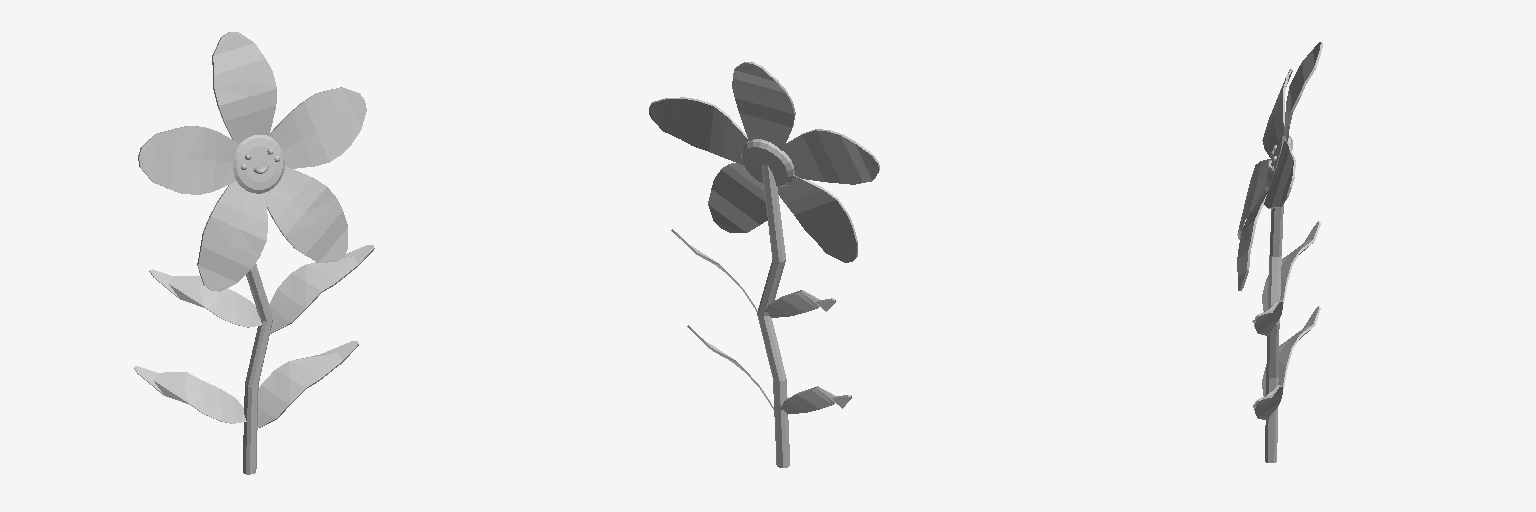
Rendered from adult plant grown.obj.
The picture shows the model from 3 angles: view 1: azimuth 30°, elevation 25°; view 2: azimuth 150°, elevation 25°; view 3: azimuth 270°, elevation 25°; orthographic projection.
Parts seen in each view (by area): view 1: polySurface17, polySurface1, pCube10 polySurface6, polySurface3 pCube10, pCube10 polySurface9, pCube10 polySurface11, pCube10 polySurface14, pCube11, pCube10 polySurface16; view 2: pCube11, pCube10 polySurface9, pCube10 polySurface14, polySurface3 pCube10, pCube10 polySurface6, pCube10 polySurface11, pCube10 polySurface16, polySurface17, polySurface1; view 3: pCube11, polySurface1, polySurface17, pCube10 polySurface14, polySurface3 pCube10, pCube10 polySurface11, pCube10 polySurface9, pCube10 polySurface6.
Boxes of the visible parts, box(x1,y1,x2,y2) form: polySurface17: box(134, 341, 358, 428); polySurface1: box(149, 245, 374, 333); pCube10 polySurface6: box(197, 181, 267, 291); polySurface3 pCube10: box(212, 32, 276, 143); pCube10 polySurface9: box(138, 126, 238, 194); pCube10 polySurface11: box(263, 166, 347, 262); pCube10 polySurface14: box(269, 87, 366, 168); pCube11: box(243, 263, 273, 474); pCube10 polySurface16: box(233, 135, 284, 193); pCube11: box(757, 164, 789, 467); pCube10 polySurface9: box(783, 129, 879, 184); pCube10 polySurface14: box(649, 97, 748, 164); polySurface3 pCube10: box(732, 62, 795, 150); pCube10 polySurface6: box(778, 176, 857, 262); pCube10 polySurface11: box(708, 164, 767, 232); pCube10 polySurface16: box(741, 139, 794, 186); polySurface17: box(687, 325, 851, 414); polySurface1: box(671, 229, 835, 317); pCube11: box(1265, 204, 1283, 462); polySurface1: box(1252, 221, 1320, 335); polySurface17: box(1253, 306, 1320, 420); pCube10 polySurface14: box(1264, 140, 1295, 208); polySurface3 pCube10: box(1284, 42, 1322, 141); pCube10 polySurface11: box(1237, 190, 1267, 290); pCube10 polySurface9: box(1262, 69, 1292, 157); pCube10 polySurface6: box(1237, 159, 1270, 239).
Size of the model in its own units: 4.89 by 8.61 by 1.6.